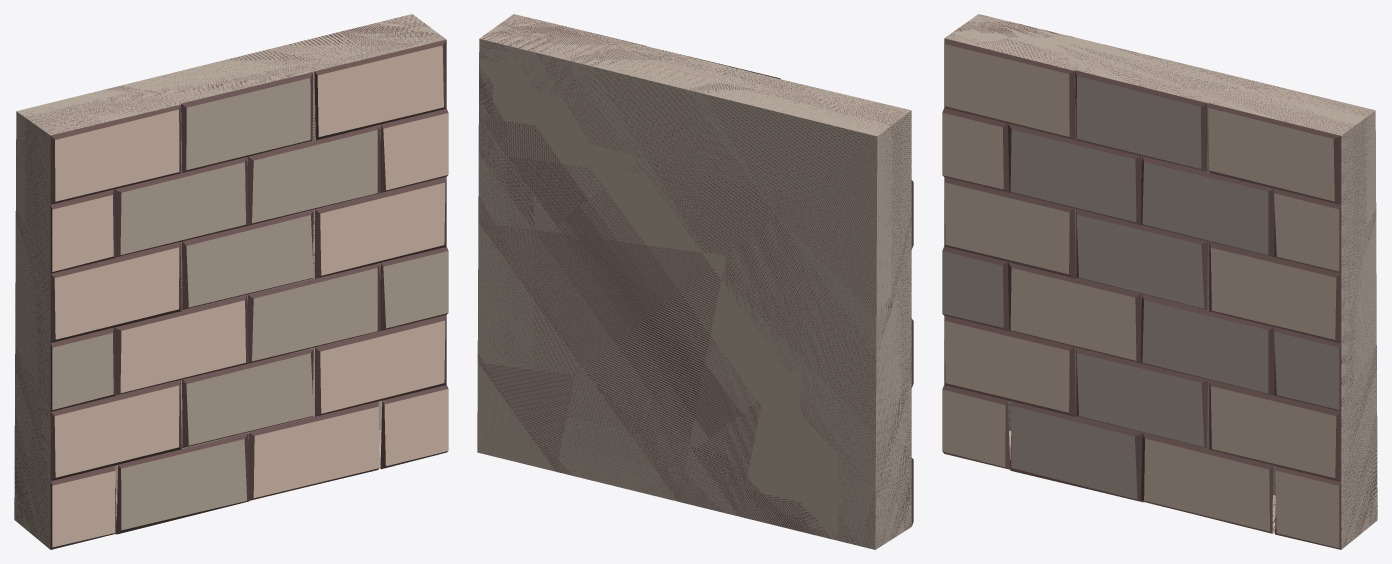
File: greek_wall_1_single_sided.fbx
3 views of the same model, side by side, from view 1: azimuth 30°, elevation 25°; view 2: azimuth 150°, elevation 25°; view 3: azimuth 330°, elevation 25° (orthographic).
Visible parts, largest first — view 1: Cube.042; view 2: Cube.042; view 3: Cube.042.
Part boxes in pixels (<box>): Cube.042: <box>14,14,448,549</box>; Cube.042: <box>477,14,913,549</box>; Cube.042: <box>942,14,1377,549</box>.
Bounding box in the file's own units: 300 × 301 × 50.01.
